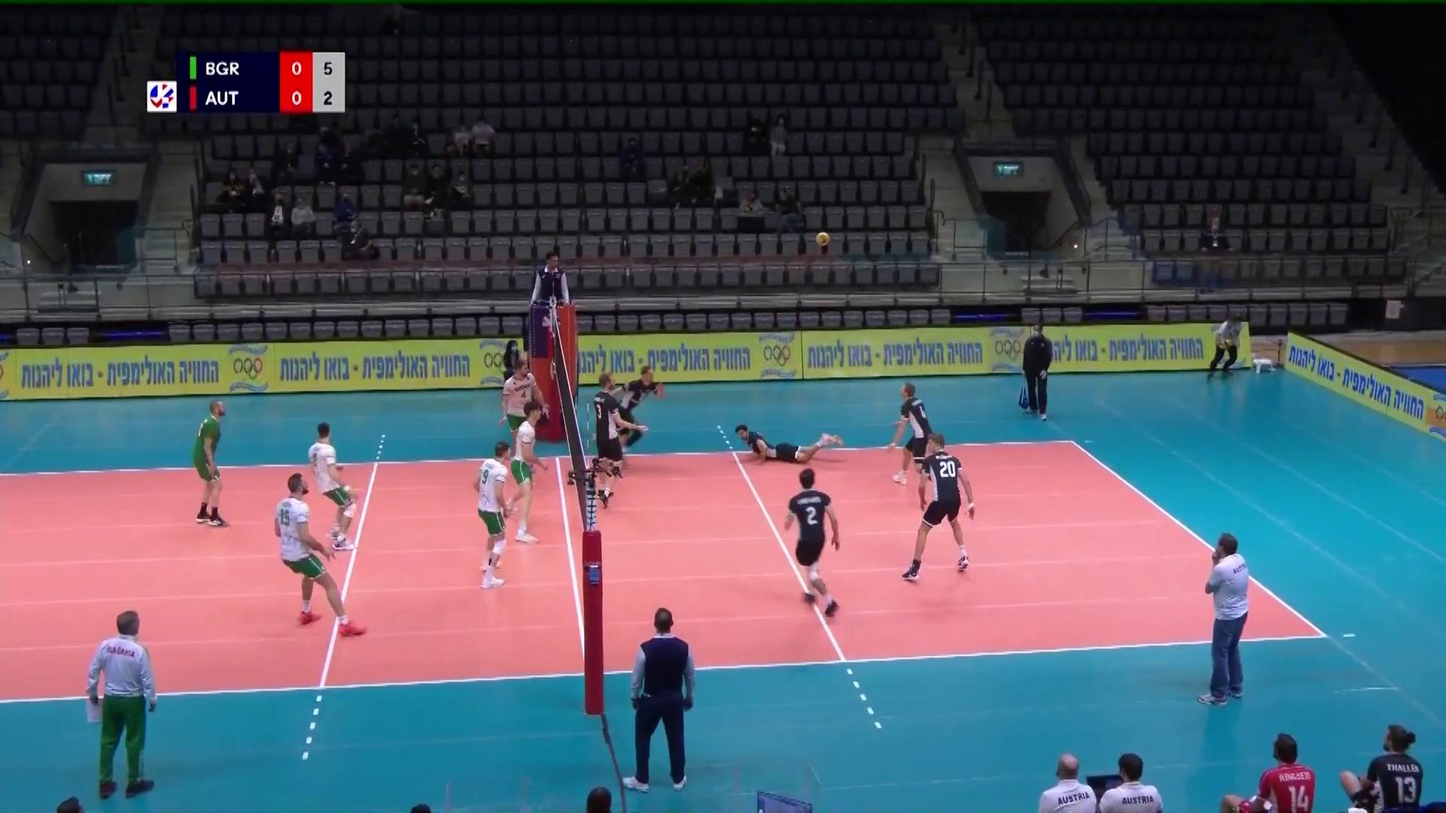ball: (816, 232, 830, 246)
